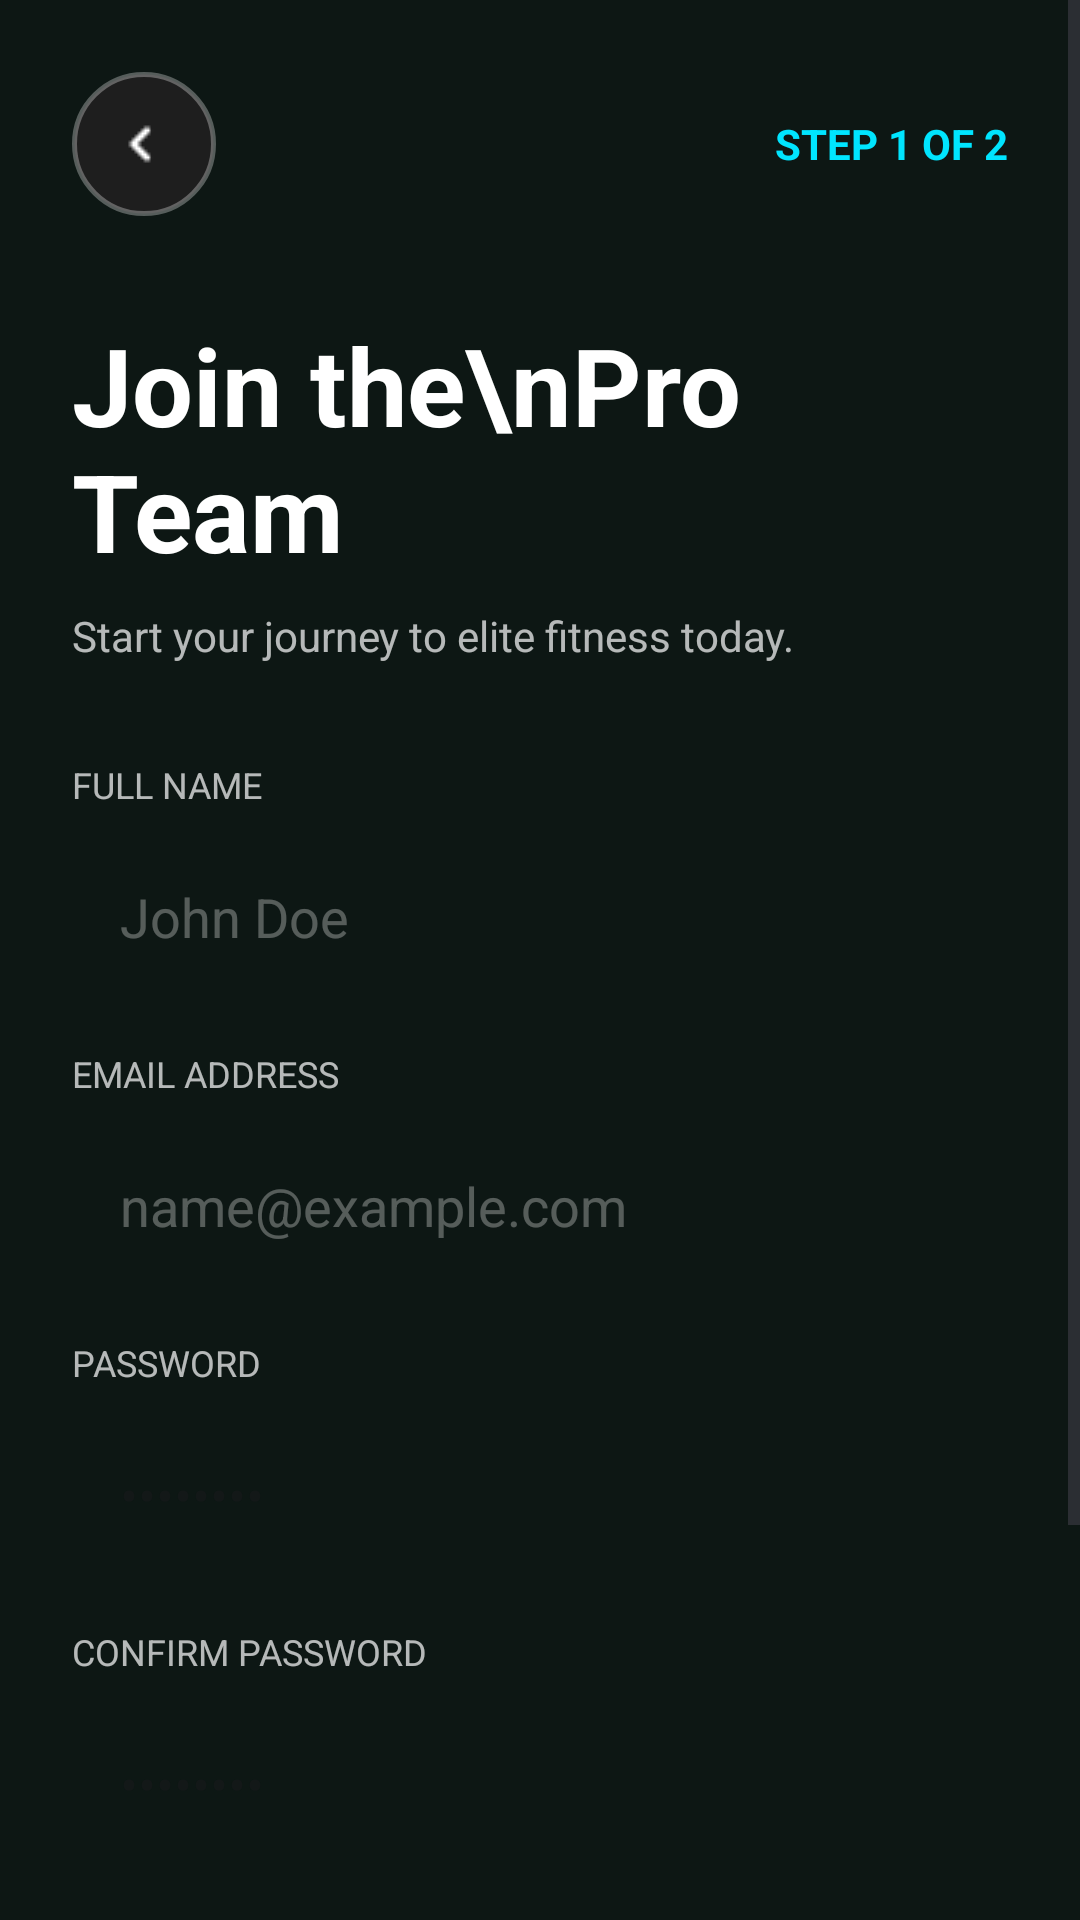

Where to tap for icons on this 1080 × 1920 app screen, as (x=x, y=y):
back: (x=144, y=144)
